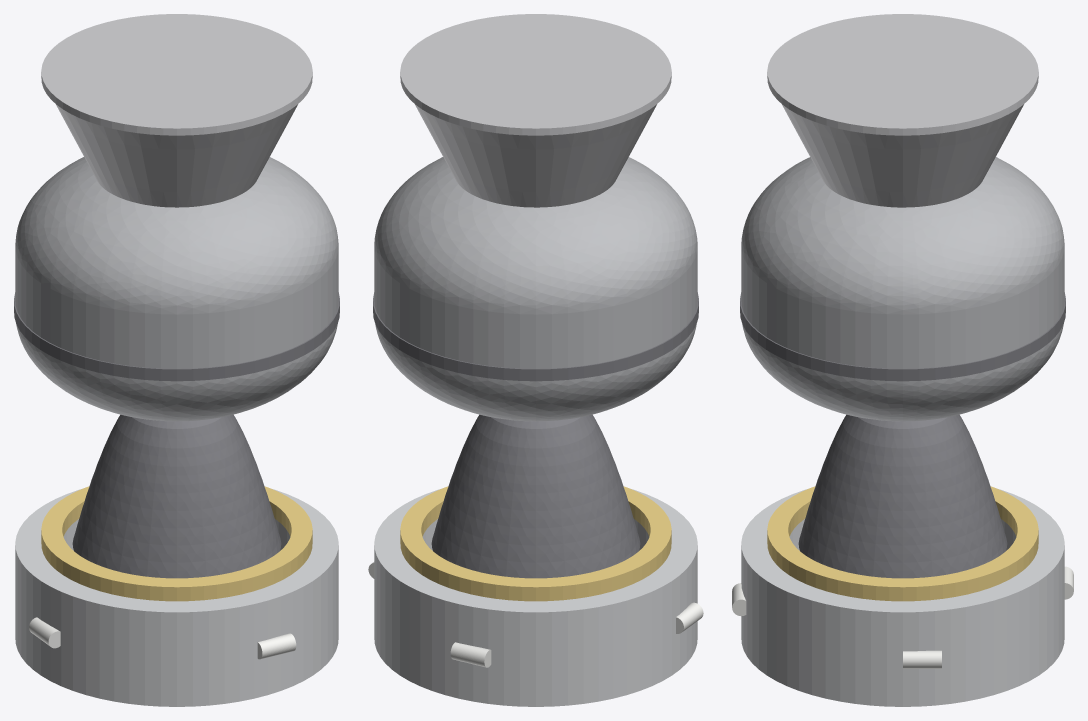
File: prop23_kick_motor_spin.glb
3 views of the same model, side by side, from view 1: azimuth 30°, elevation 25°; view 2: azimuth 150°, elevation 25°; view 3: azimuth 270°, elevation 25° (orthographic).
Visible parts, largest first — view 1: case, forward_adapter, spin_table, nozzle, bearing, case_band, spin_rockets; view 2: case, forward_adapter, spin_table, nozzle, bearing, case_band, spin_rockets; view 3: case, forward_adapter, spin_table, nozzle, bearing, case_band, spin_rockets.
Part boxes in pixels (bbox=[...]): case: bbox=[15, 157, 338, 421]; forward_adapter: bbox=[41, 14, 312, 207]; spin_table: bbox=[15, 488, 338, 706]; nozzle: bbox=[72, 414, 281, 578]; bearing: bbox=[41, 486, 312, 601]; case_band: bbox=[14, 292, 339, 381]; spin_rockets: bbox=[29, 617, 296, 659]; case: bbox=[374, 157, 697, 421]; forward_adapter: bbox=[400, 14, 671, 207]; spin_table: bbox=[374, 488, 697, 706]; nozzle: bbox=[431, 414, 640, 578]; bearing: bbox=[400, 486, 671, 601]; case_band: bbox=[373, 292, 698, 381]; spin_rockets: bbox=[368, 562, 703, 667]; case: bbox=[741, 157, 1064, 421]; forward_adapter: bbox=[767, 14, 1038, 207]; spin_table: bbox=[741, 488, 1064, 706]; nozzle: bbox=[798, 414, 1007, 578]; bearing: bbox=[767, 486, 1038, 601]; case_band: bbox=[740, 292, 1065, 381]; spin_rockets: bbox=[732, 566, 1073, 668].
Bounding box in the file's own units: 1.31 × 2.4 × 1.31.
